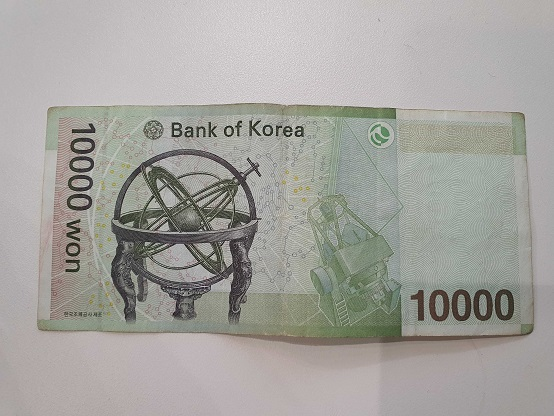10000won: (37, 102, 537, 342)
